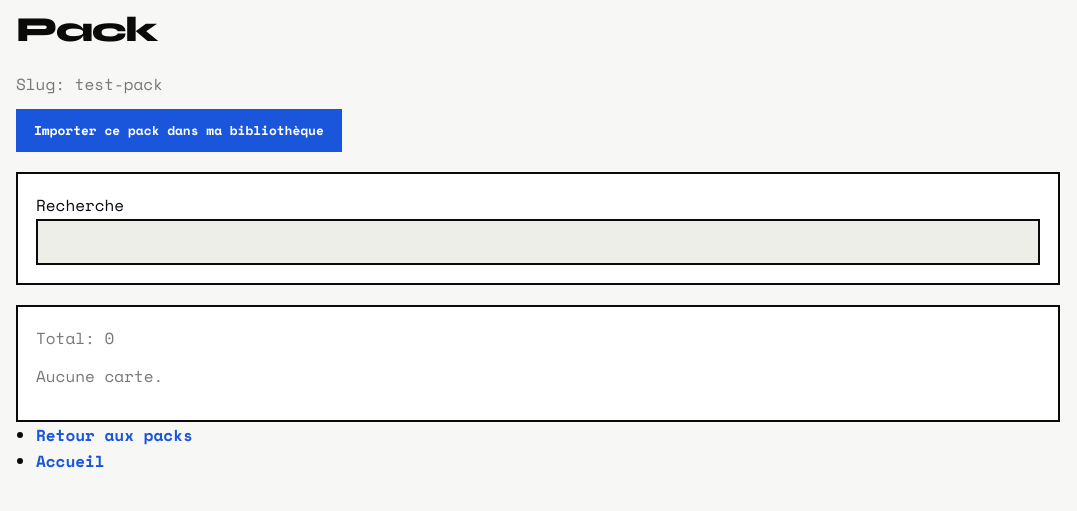
Test case: PackDetail › shows import result after successful import
This screenshot has width=1077, height=511.
Click the button "Importer ce pack dans ma bibliothèque" at (179, 131), box [16,110,342,152]
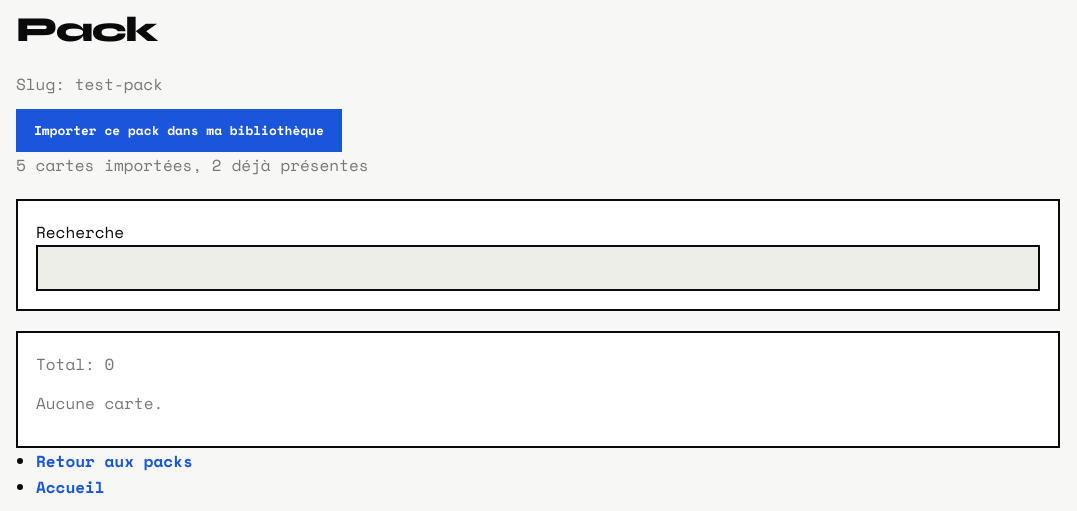
Check: the text "5 cartes importées, 2 déjà présentes" is shown, box [16,154,368,178]
